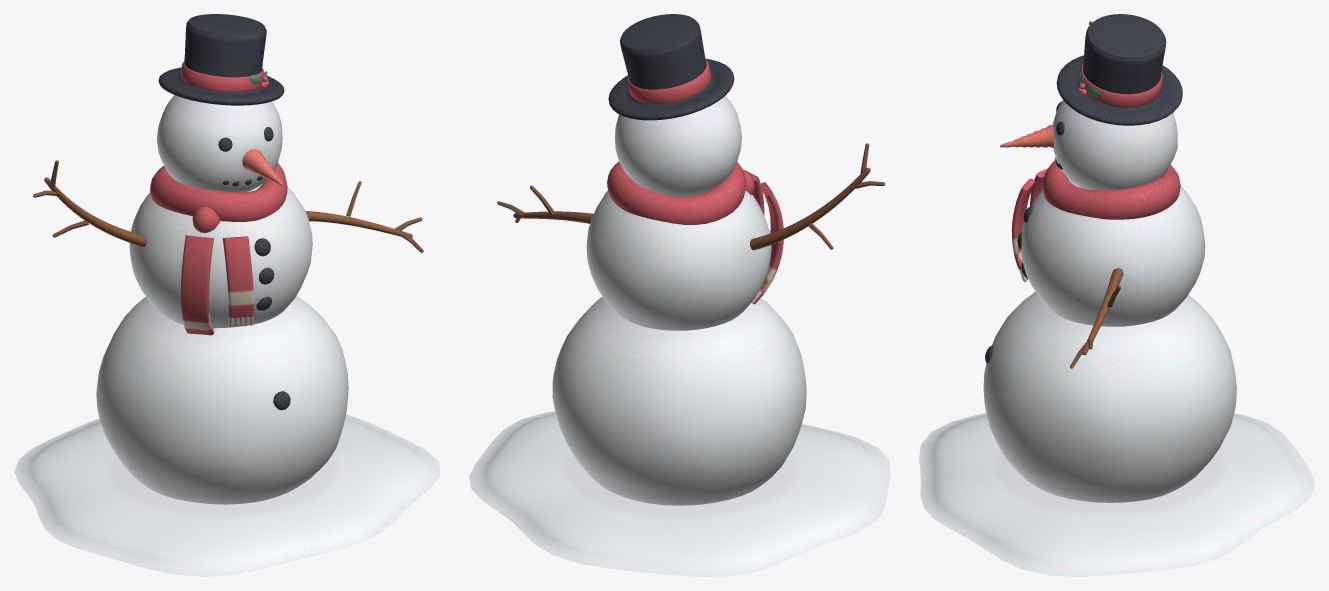
Rendered from snowman.glb.
3 renders of one model, left to right at view 1: azimuth 30°, elevation 25°; view 2: azimuth 150°, elevation 25°; view 3: azimuth 270°, elevation 25°, orthographic.
Visible parts, largest first — view 1: snowman_body; view 2: snowman_body; view 3: snowman_body.
Part boxes in pixels (<box>): snowman_body: <box>14,14,440,576</box>; snowman_body: <box>469,14,890,576</box>; snowman_body: <box>919,14,1314,576</box>.
Bounding box in the file's own units: 1.41 × 1.61 × 1.25.
Materials: 1 (1 with a texture image).
